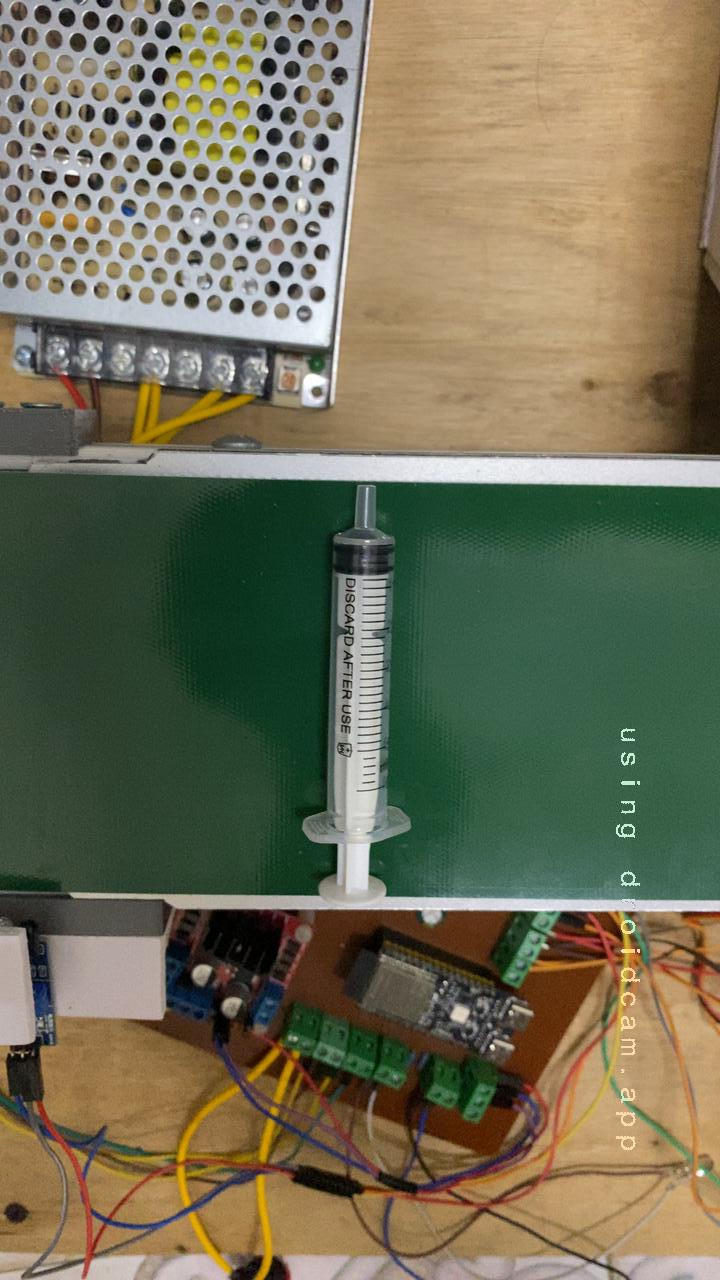syringe: (239, 510, 477, 920)
